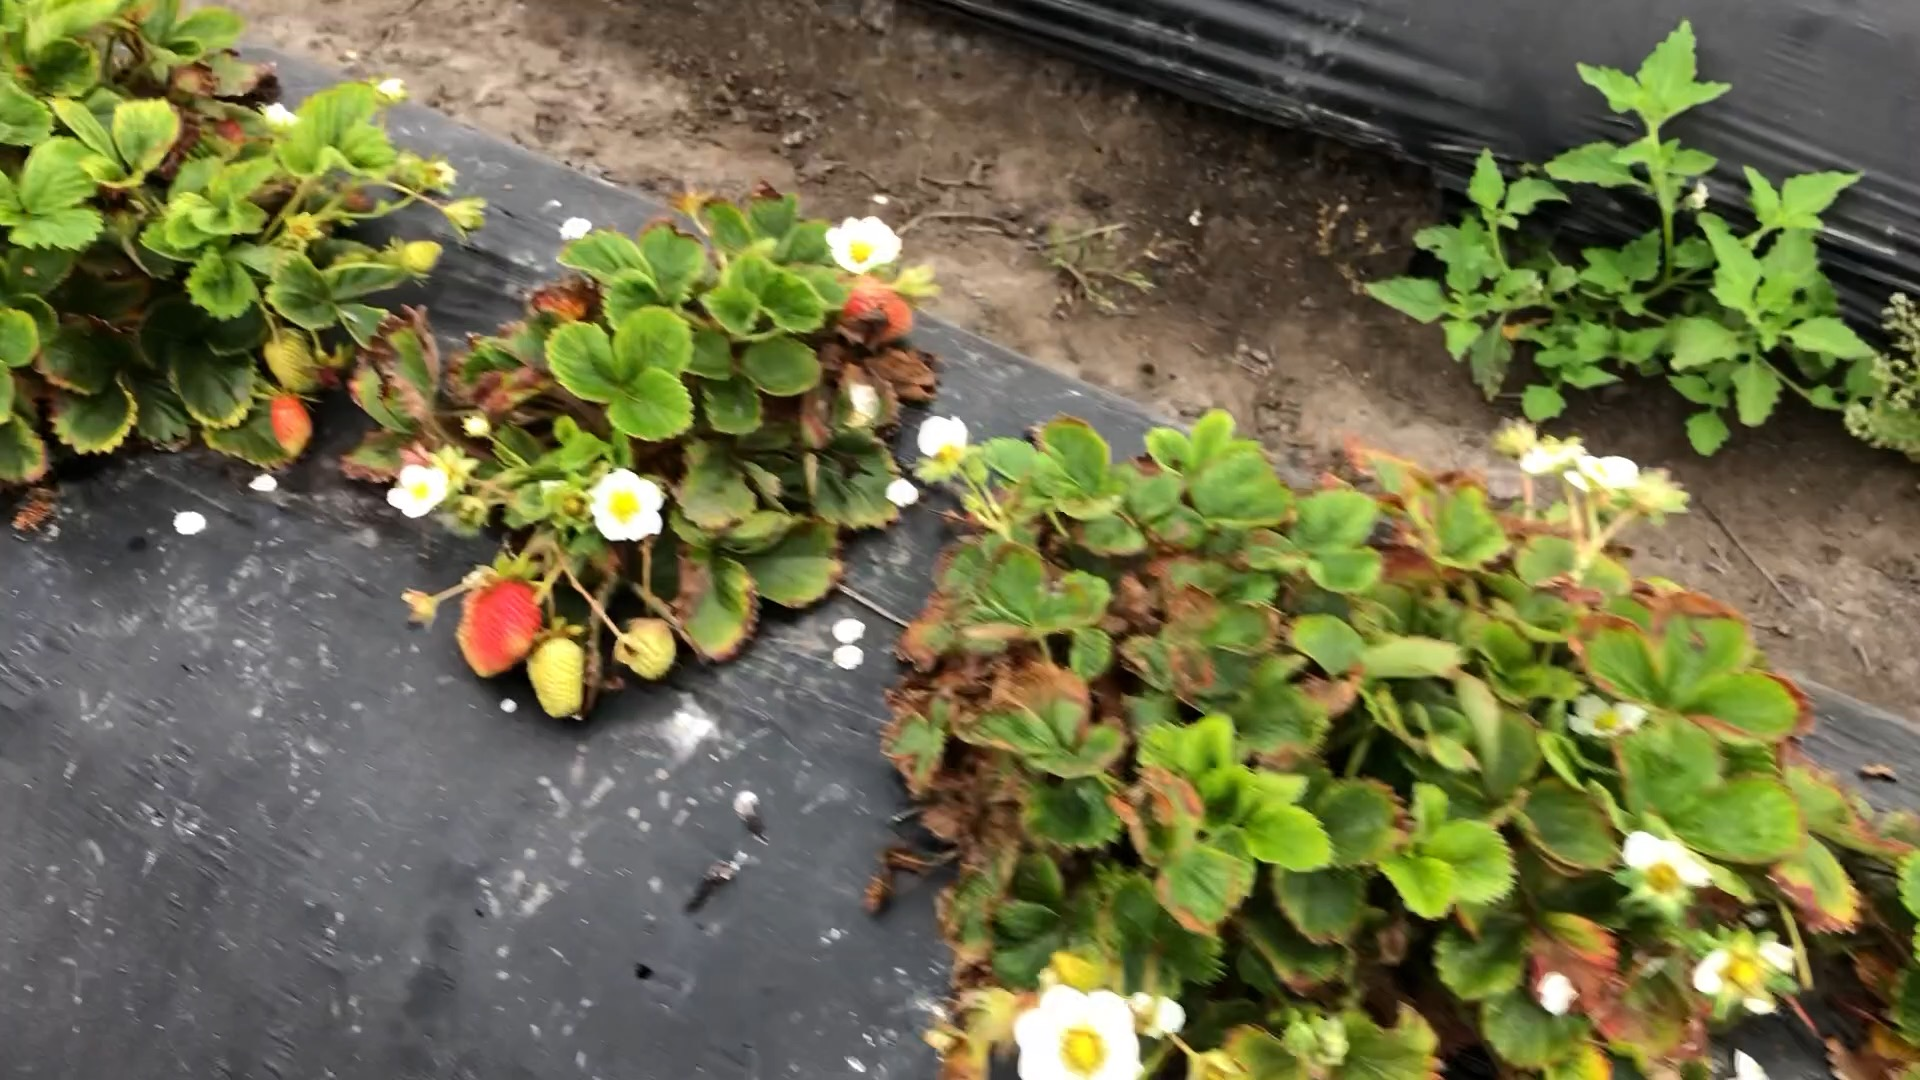ripe_strawberry: (455, 566, 543, 684)
unripe_strawberry: (524, 624, 592, 724), (257, 388, 316, 468), (257, 327, 327, 390), (621, 615, 682, 684), (396, 237, 447, 277)
